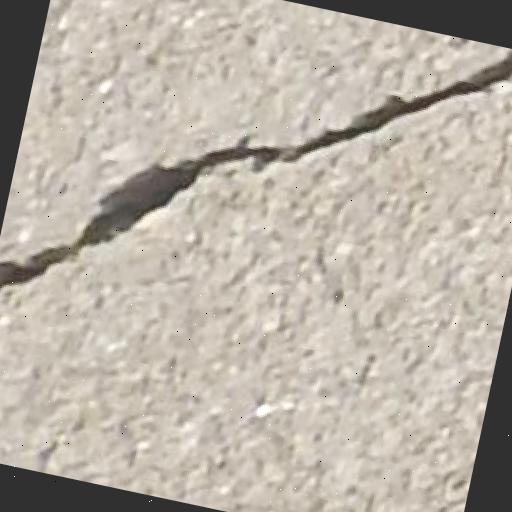spalling: (0, 44, 512, 311)
